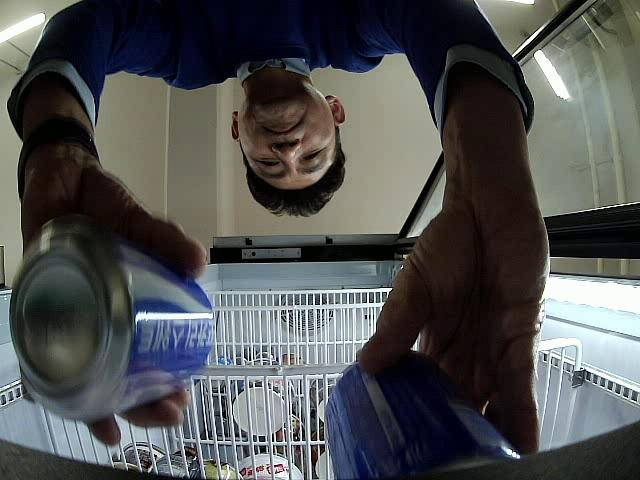00_hand: (21, 161, 206, 449), (358, 193, 549, 454)
13_pocariSweat: (10, 224, 217, 421), (324, 352, 522, 477)
